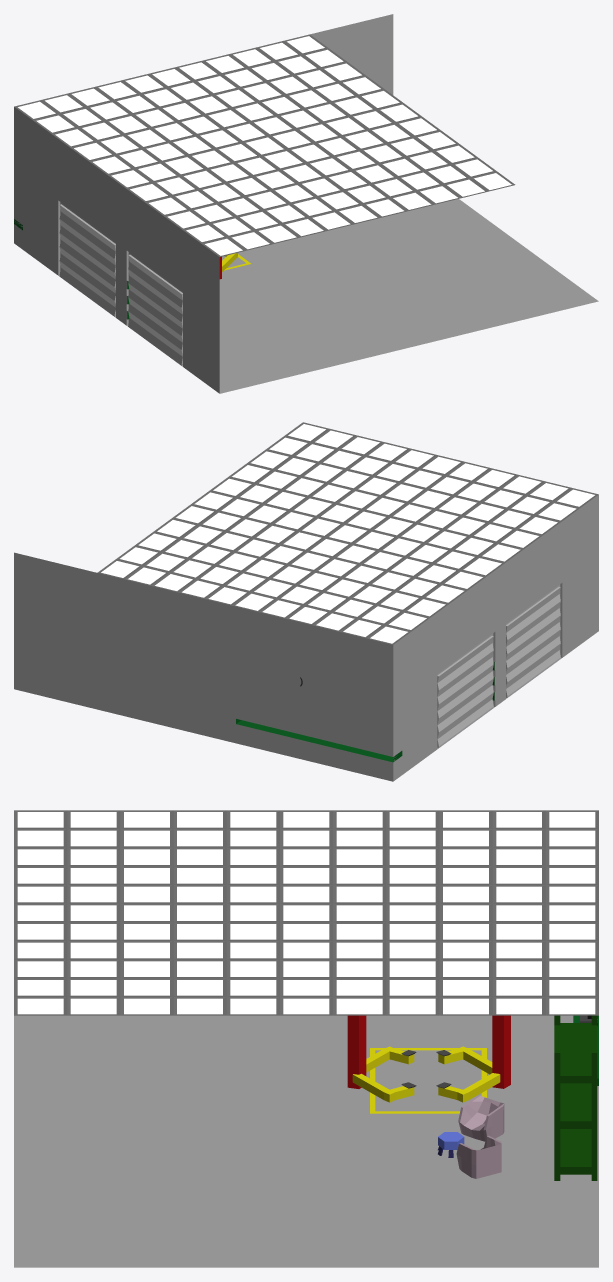
The model's file is loby_rework.glb.
3 renders of one model, top to bottom at view 1: azimuth 30°, elevation 25°; view 2: azimuth 150°, elevation 25°; view 3: azimuth 270°, elevation 25°, orthographic. The views are drawn at different scales.
Parts seen in each view (by area): view 1: techo, Cube, pared_1; view 2: techo, Cube, pared_1; view 3: Cube, techo, Cube.004, Cube.002, Cube.003.
Part boxes in pixels (box(x1,y1,x2,y2)): techo: box(14, 34, 515, 256); Cube: box(14, 14, 598, 393); pared_1: box(14, 107, 219, 393); techo: box(97, 422, 598, 644); Cube: box(14, 552, 561, 781); pared_1: box(393, 494, 598, 781); Cube: box(14, 1015, 598, 1267); techo: box(14, 810, 598, 1015); Cube.004: box(554, 1015, 597, 1180); Cube.002: box(458, 1095, 504, 1141); Cube.003: box(456, 1135, 501, 1178).
Size of the model in its own units: 18.83 by 6.74 by 17.7.
